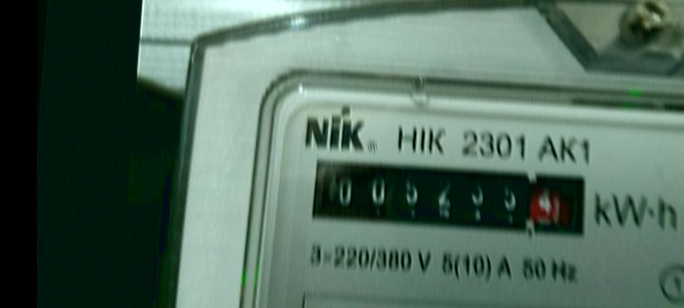0: (369, 173, 392, 207), (337, 175, 357, 207)
2: (435, 175, 459, 211)
3: (467, 175, 494, 210)
4: (536, 181, 561, 218)
5: (501, 177, 526, 215), (403, 174, 425, 208)
screen: (296, 143, 604, 252)
